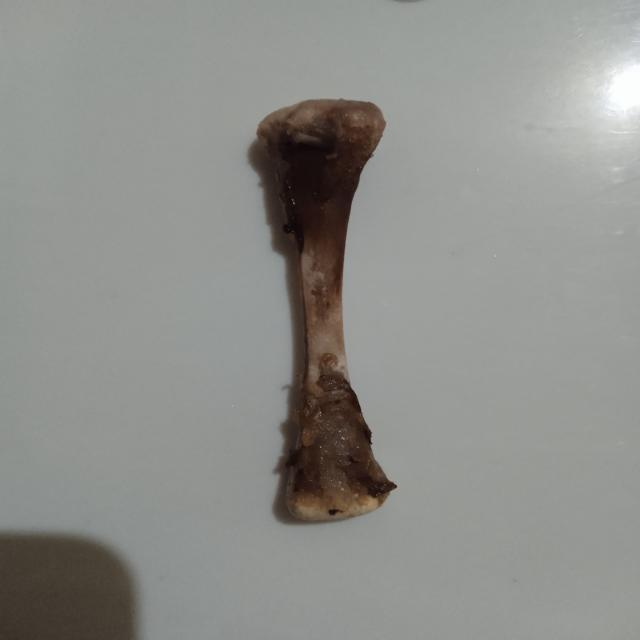bone: (249, 89, 409, 533)
